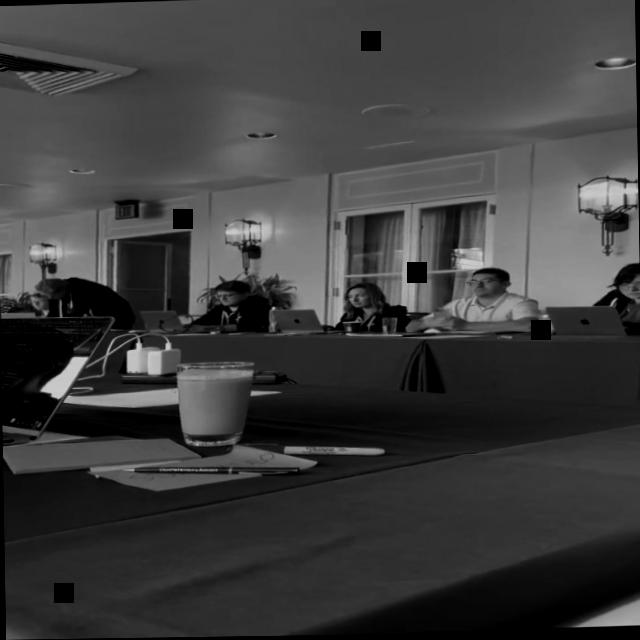NO-Mask: (466, 274, 501, 299), (614, 273, 640, 300), (344, 288, 373, 311), (215, 291, 238, 306), (29, 297, 45, 311), (40, 290, 64, 299)
